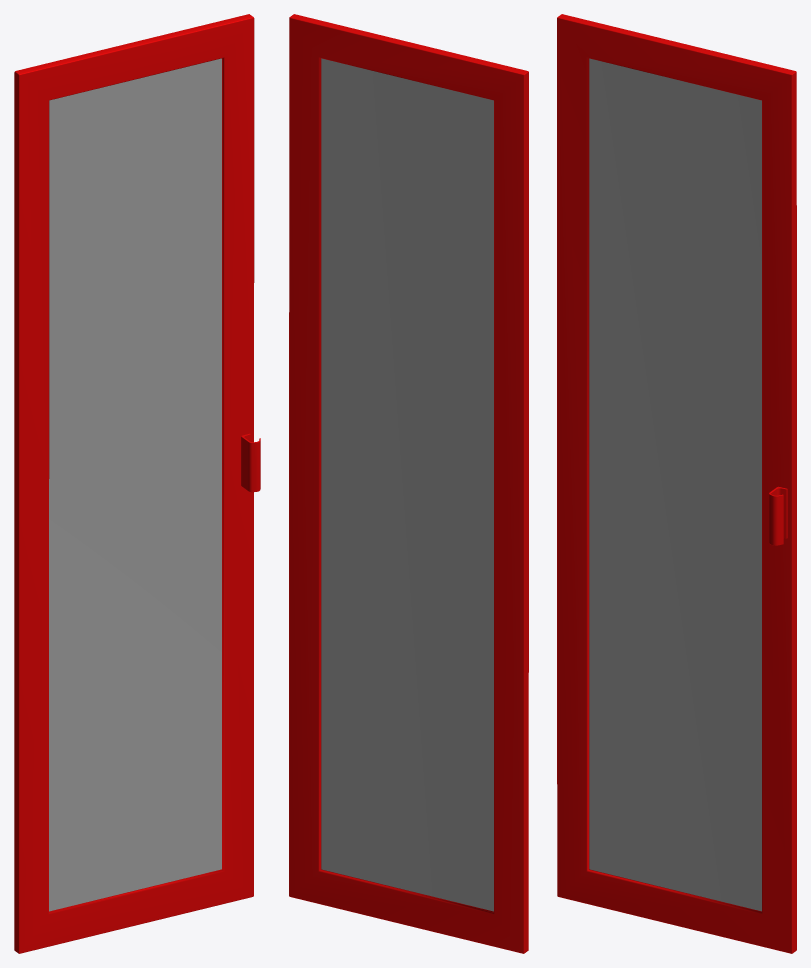
The model's file is Medical_cabinet_1_1.fbx.
3 views of the same model, side by side, from view 1: azimuth 30°, elevation 25°; view 2: azimuth 150°, elevation 25°; view 3: azimuth 330°, elevation 25° (orthographic).
Visible parts, largest first — view 1: L1:polySurface651; view 2: L1:polySurface651; view 3: L1:polySurface651.
Boxes of the visible parts, left/top/right/bottom form: L1:polySurface651: left=14, top=14, right=260, bottom=953; L1:polySurface651: left=289, top=14, right=528, bottom=953; L1:polySurface651: left=557, top=14, right=796, bottom=953.
Bounding box in the file's own units: 59.01 × 211 × 7.04.
